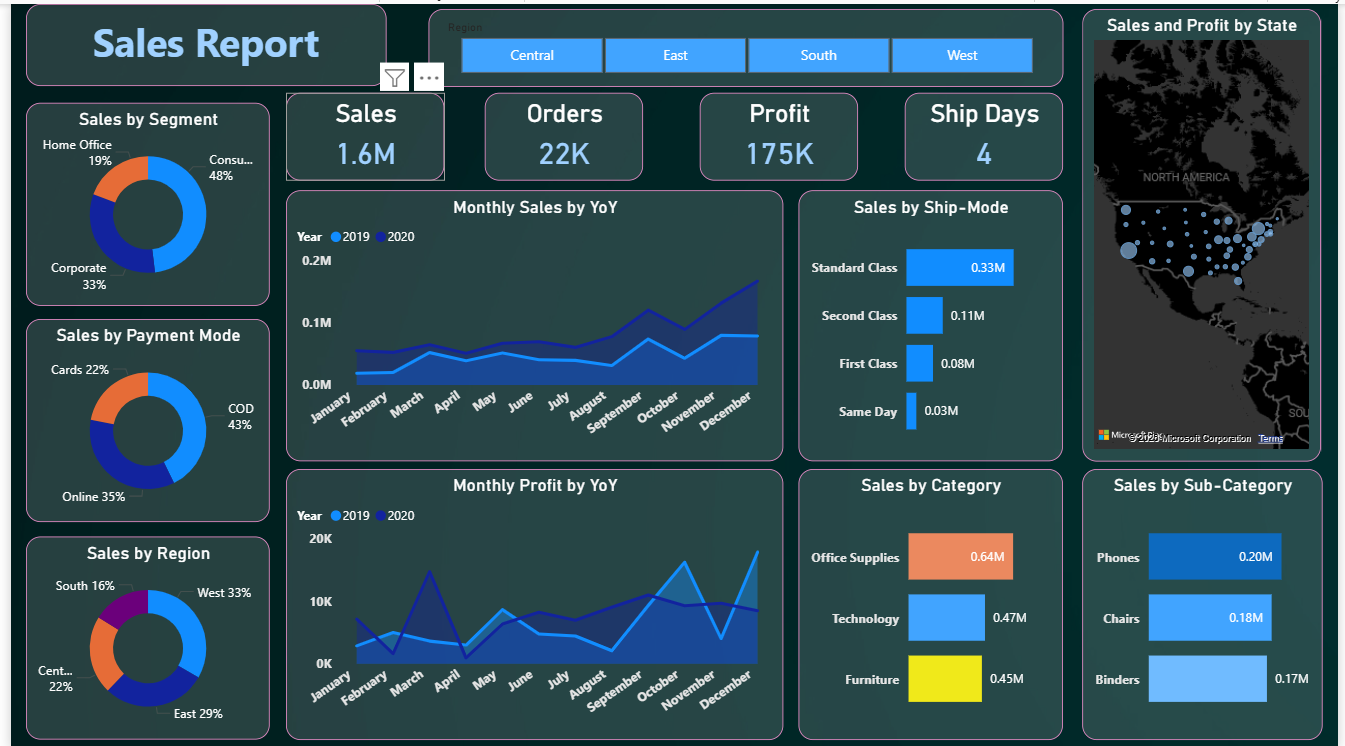

The page's visual inventory and layout, read from the dashboard file:
{"tool":"powerbi","page":{"name":"Page 1","canvas":[1280,720],"ordinal":0},"visuals":[{"type":"clusteredBarChart","title":"Sales by Category","fields":{"Category":["Sheet1.Category"],"Y":["Sum(Sheet1.Sales)"]},"box":[760,448.3,255,261.7],"z":0},{"type":"clusteredBarChart","title":"Sales by Sub-Category","fields":{"Category":["Sheet1.Sub-Category"],"Y":["Sum(Sheet1.Sales)"]},"box":[1033.3,448.3,231.7,261.7],"z":1000},{"type":"areaChart","title":"Monthly Sales by YoY","fields":{"Y":["Sum(Sheet1.Sales)"],"Category":["Sheet1.Order Date.Variation.Date Hierarchy.Month"],"Series":["Sheet1.Order Date.Variation.Date Hierarchy.Year"]},"box":[265,180,480,261.7],"z":2000},{"type":"areaChart","title":"Monthly Profit by YoY","fields":{"Category":["Sheet1.Order Date.Variation.Date Hierarchy.Month"],"Series":["Sheet1.Order Date.Variation.Date Hierarchy.Year"],"Y":["Sum(Sheet1.Profit)"]},"box":[265,448.3,480,261.7],"z":3000},{"type":"clusteredBarChart","title":"Sales by Ship-Mode","fields":{"Y":["Sum(Sheet1.Sales)"],"Category":["Sheet1.Ship Mode"]},"box":[760,180,255,261.7],"z":4000},{"type":"map","title":"Sales and Profit by State","fields":{"Category":["Sheet1.State"],"Size":["Sum(Sheet1.Sales)"]},"box":[1033.3,5,230,436.7],"z":5000},{"type":"donutChart","title":"Sales by Segment","fields":{"Category":["Sheet1.Segment"],"Y":["Sum(Sheet1.Sales)"]},"box":[14.4,95.2,235.2,196.2],"z":6000},{"type":"donutChart","title":"Sales by Payment Mode","fields":{"Y":["Sum(Sheet1.Sales)"],"Category":["Sheet1.Payment Mode"]},"box":[14.4,304.4,235.2,196.2],"z":7000},{"type":"donutChart","title":"Sales by Region","fields":{"Y":["Sum(Sheet1.Sales)"],"Category":["Sheet1.Region"]},"box":[14.4,513.6,235.2,196.2],"z":8000},{"type":"slicer","fields":{"Values":["Sheet1.Region"]},"box":[402.5,4.3,613.2,75],"z":9000},{"type":"textbox","box":[14.4,0,347.7,79.4],"z":10000},{"type":"card","title":"Sales","fields":{"Values":["Sum(Sheet1.Sales)"]},"box":[265.5,85.1,152.9,85.1],"z":11000},{"type":"card","title":"Orders","fields":{"Values":["Sum(Sheet1.Quantity)"]},"box":[457.4,85.1,152.9,85.1],"z":12000},{"type":"card","title":"Profit","fields":{"Values":["Sum(Sheet1.Profit)"]},"box":[665.1,85.1,152.9,85.1],"z":13000},{"type":"card","title":"Ship Days","fields":{"Values":["Avg(Sheet1.AvgDelivery)"]},"box":[862.8,85.1,152.9,85.1],"z":14000}]}

Visuals, with their boxes in screenshot pixels (x1, y1, x2, y2), scaled from the page's 1280x720 canvas onto the 1345x746 screenshot:
"Sales by Category" clusteredBarChart: region(799, 464, 1067, 736)
"Sales by Sub-Category" clusteredBarChart: region(1086, 464, 1329, 736)
"Monthly Sales by YoY" areaChart: region(278, 187, 783, 458)
"Monthly Profit by YoY" areaChart: region(278, 464, 783, 736)
"Sales by Ship-Mode" clusteredBarChart: region(799, 187, 1067, 458)
"Sales and Profit by State" map: region(1086, 5, 1327, 458)
"Sales by Segment" donutChart: region(15, 99, 262, 302)
"Sales by Payment Mode" donutChart: region(15, 315, 262, 519)
"Sales by Region" donutChart: region(15, 532, 262, 735)
slicer - Sheet1.Region: region(423, 4, 1067, 82)
textbox: region(15, 0, 380, 82)
"Sales" card: region(279, 88, 440, 176)
"Orders" card: region(481, 88, 641, 176)
"Profit" card: region(699, 88, 860, 176)
"Ship Days" card: region(907, 88, 1067, 176)
